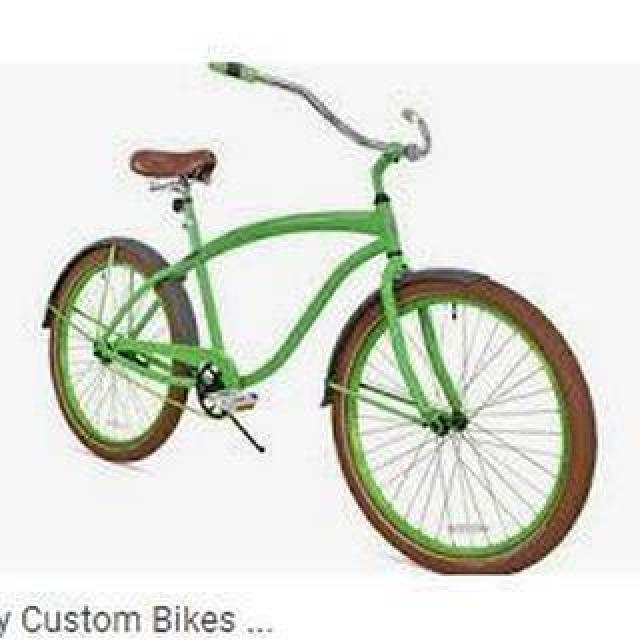Person: (26, 58, 606, 572)
